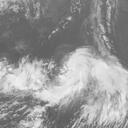cyclone: (51, 45, 119, 110)
